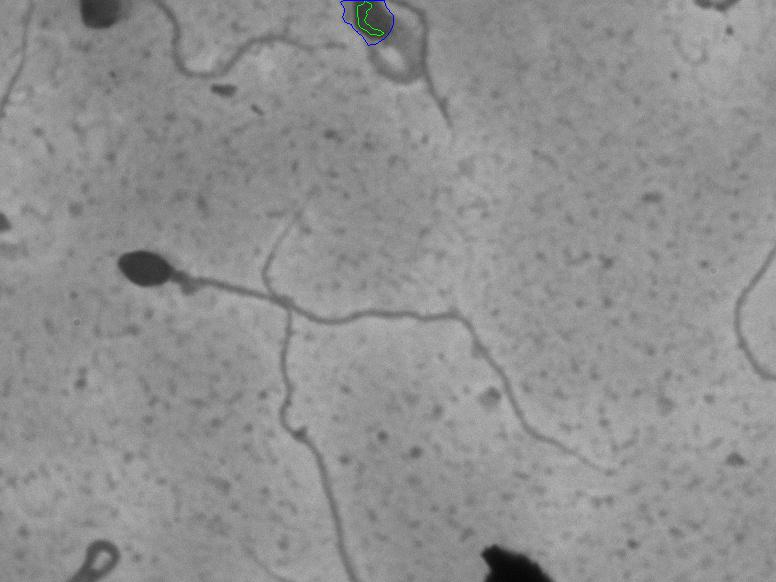Normal: (87, 235, 634, 488)
